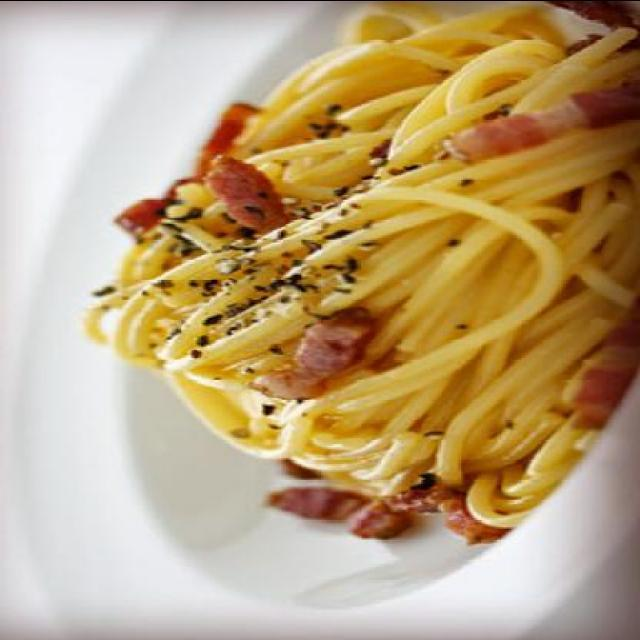Pasta with carbonara sauce: (54, 42, 622, 600)
